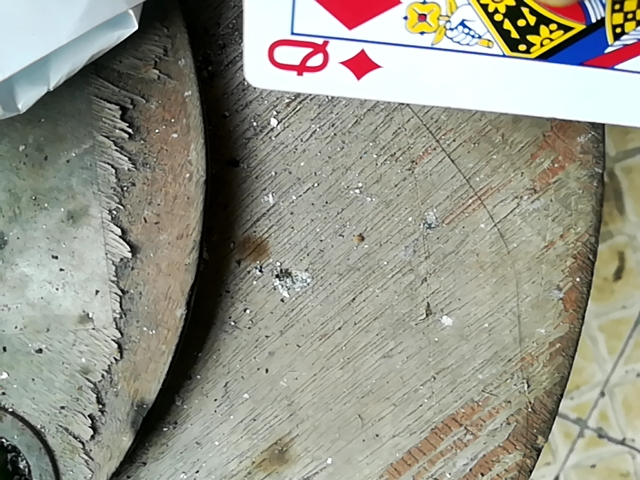fk q: (225, 0, 640, 133)
